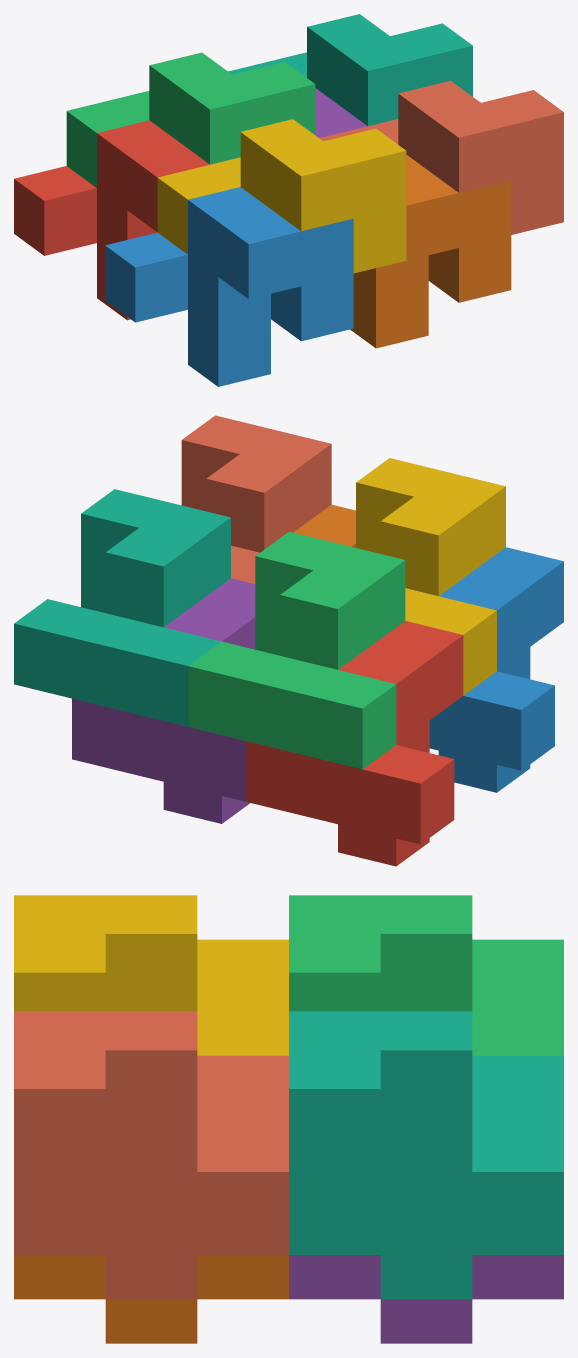
File: tiling.obj
3 views of the same model, one above another, from view 1: azimuth 30°, elevation 25°; view 2: azimuth 150°, elevation 25°; view 3: azimuth 270°, elevation 25° (orthographic). The views are drawn at different scales.
Visible parts, largest first — view 1: copy_1_domain_2, copy_1_domain_4, copy_1_domain_8, copy_1_domain_6, copy_1_domain_3, copy_1_domain_1, copy_1_domain_7, copy_1_domain_5; view 2: copy_1_domain_3, copy_1_domain_7, copy_1_domain_1, copy_1_domain_4, copy_1_domain_2, copy_1_domain_5, copy_1_domain_8, copy_1_domain_6; view 3: copy_1_domain_7, copy_1_domain_8, copy_1_domain_3, copy_1_domain_4, copy_1_domain_5, copy_1_domain_6.
Part boxes in pixels (x1,y1,x2,y2): copy_1_domain_2: [105, 187, 353, 386]; copy_1_domain_4: [157, 119, 406, 273]; copy_1_domain_8: [319, 80, 563, 234]; copy_1_domain_6: [350, 154, 511, 348]; copy_1_domain_3: [66, 52, 315, 187]; copy_1_domain_1: [14, 120, 209, 320]; copy_1_domain_7: [228, 14, 472, 125]; copy_1_domain_5: [315, 88, 367, 137]; copy_1_domain_3: [188, 531, 405, 769]; copy_1_domain_7: [14, 489, 230, 726]; copy_1_domain_1: [246, 621, 463, 866]; copy_1_domain_4: [356, 458, 505, 695]; copy_1_domain_2: [429, 547, 563, 792]; copy_1_domain_5: [72, 578, 255, 823]; copy_1_domain_8: [181, 415, 331, 583]; copy_1_domain_6: [293, 504, 355, 547]; copy_1_domain_7: [289, 1011, 563, 1299]; copy_1_domain_8: [14, 1011, 288, 1299]; copy_1_domain_3: [289, 895, 563, 1055]; copy_1_domain_4: [14, 895, 288, 1055]; copy_1_domain_5: [289, 1255, 563, 1343]; copy_1_domain_6: [14, 1255, 288, 1343].
Size of the model in its own units: 7 by 4 by 6.
